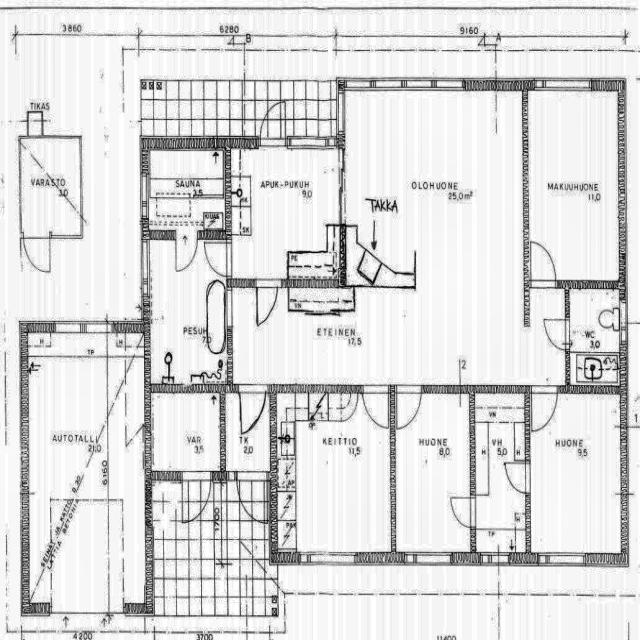Doors-dC8s: (235, 468, 275, 480), (253, 279, 281, 291), (394, 384, 426, 394), (238, 387, 270, 397), (178, 231, 200, 245), (526, 324, 531, 383), (527, 385, 558, 394), (469, 495, 476, 534), (182, 472, 216, 480), (22, 236, 52, 244), (262, 139, 292, 147), (364, 386, 392, 393), (565, 320, 571, 352), (530, 280, 560, 286), (526, 463, 530, 494)
Window: (539, 77, 588, 93), (50, 603, 123, 613), (300, 554, 356, 566), (479, 548, 512, 564), (542, 554, 585, 565), (294, 143, 330, 155), (141, 177, 151, 215), (51, 320, 79, 331), (404, 554, 451, 560), (622, 304, 628, 339), (342, 84, 372, 90), (88, 327, 112, 333), (378, 81, 398, 86), (435, 82, 462, 85), (410, 81, 429, 85)
